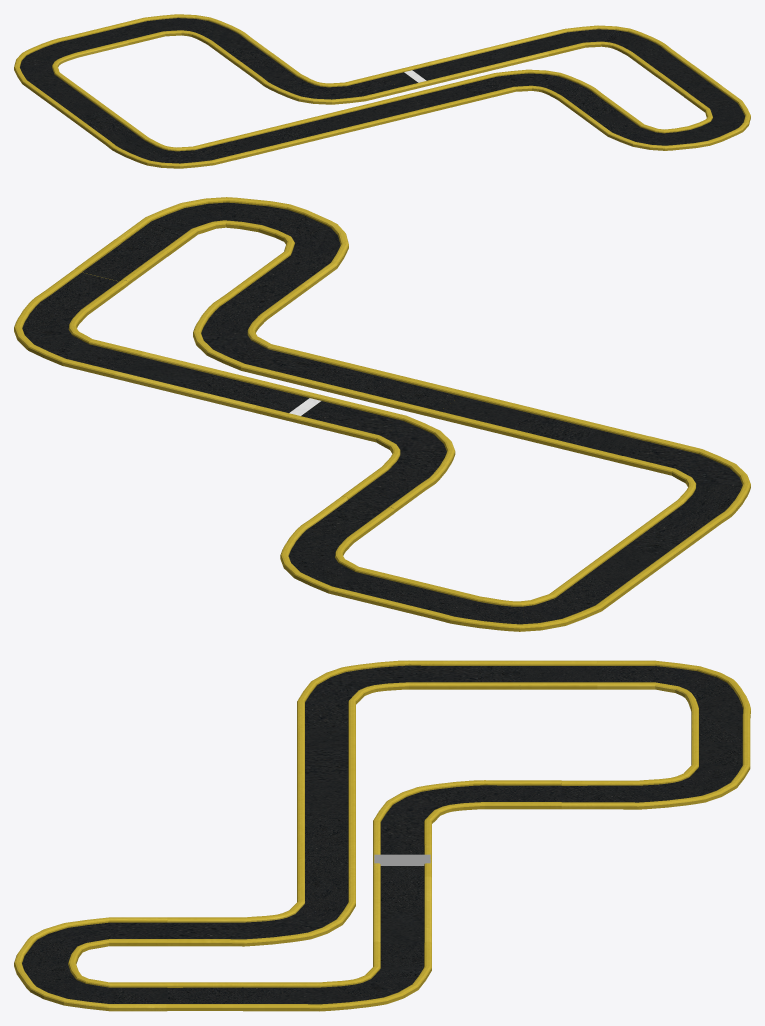
The model's file is Track.glb.
3 renders of one model, top to bottom at view 1: azimuth 30°, elevation 25°; view 2: azimuth 150°, elevation 25°; view 3: azimuth 270°, elevation 25°, orthographic. The views are drawn at different scales.
Visible parts, largest first — view 1: Track, Wall; view 2: Track, Wall; view 3: Track, Wall, Finishline.
Boxes of the visible parts, box(x1,y1,x2,y2) form: Track: box(14, 17, 750, 168); Wall: box(14, 14, 750, 166); Track: box(14, 201, 750, 631); Wall: box(14, 197, 750, 628); Track: box(14, 664, 750, 1011); Wall: box(14, 660, 750, 1008); Finishline: box(374, 854, 430, 865).
Size of the model in its own units: 288 by 5.25 by 259.
Materials: 1 (1 with a texture image).
